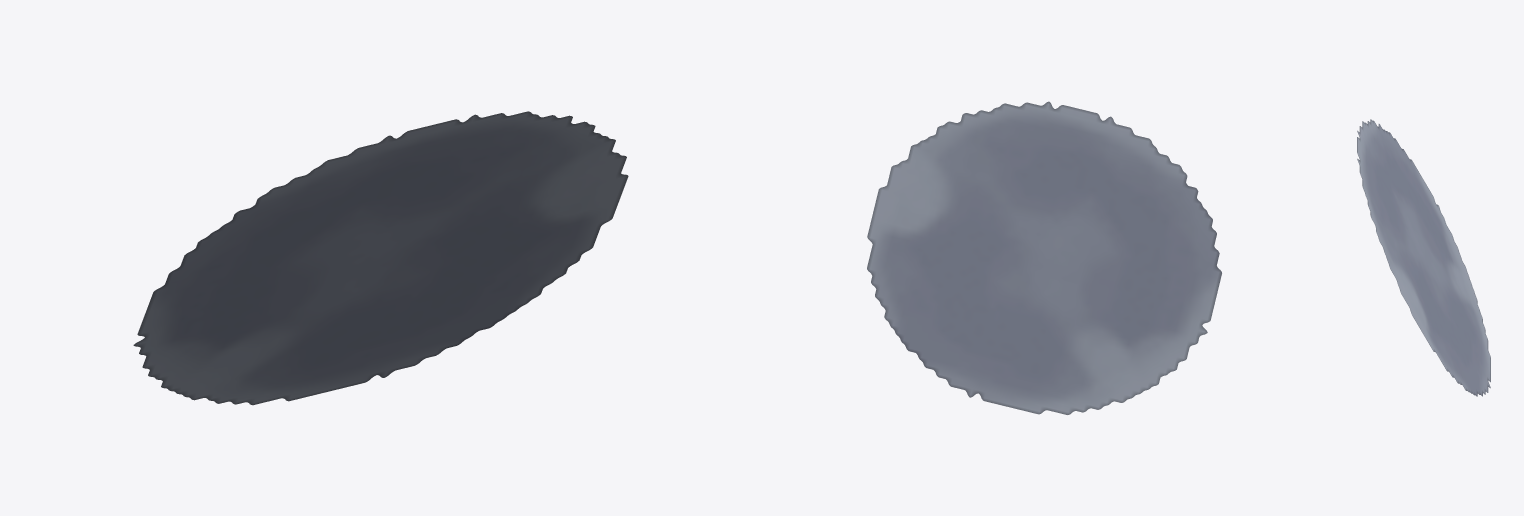
The model's file is billboards.glb.
3 renders of one model, left to right at view 1: azimuth 30°, elevation 25°; view 2: azimuth 150°, elevation 25°; view 3: azimuth 270°, elevation 25°, orthographic. The views are drawn at different scales.
Visible parts, largest first — view 1: rsrc.world.tileset.clockworks_freeze.billboards-Submesh[0]; view 2: rsrc.world.tileset.clockworks_freeze.billboards-Submesh[0]; view 3: rsrc.world.tileset.clockworks_freeze.billboards-Submesh[0].
Part boxes in pixels (left/top/right/bottom): rsrc.world.tileset.clockworks_freeze.billboards-Submesh[0]: left=133, top=111, right=628, bottom=405; rsrc.world.tileset.clockworks_freeze.billboards-Submesh[0]: left=867, top=101, right=1221, bottom=414; rsrc.world.tileset.clockworks_freeze.billboards-Submesh[0]: left=1357, top=119, right=1490, bottom=396.
Size of the model in its own units: 0.2927 by 0.1995 by 0.1067.
1 material, 1 textured.
